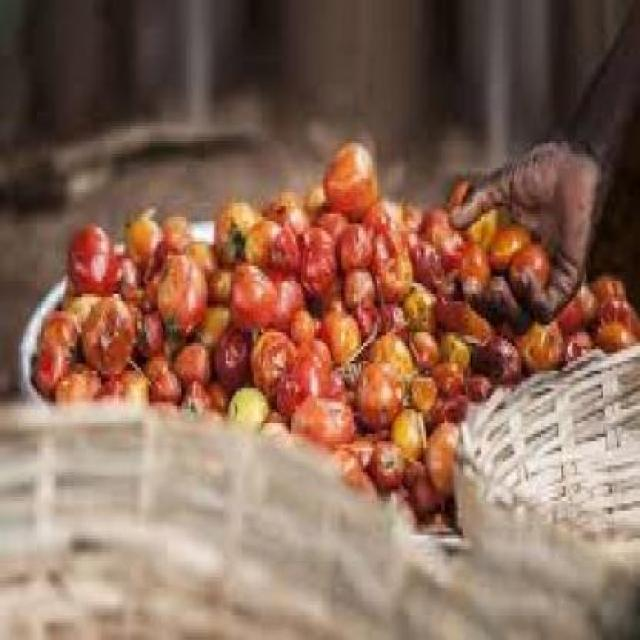garbage: (77, 214, 484, 427)
